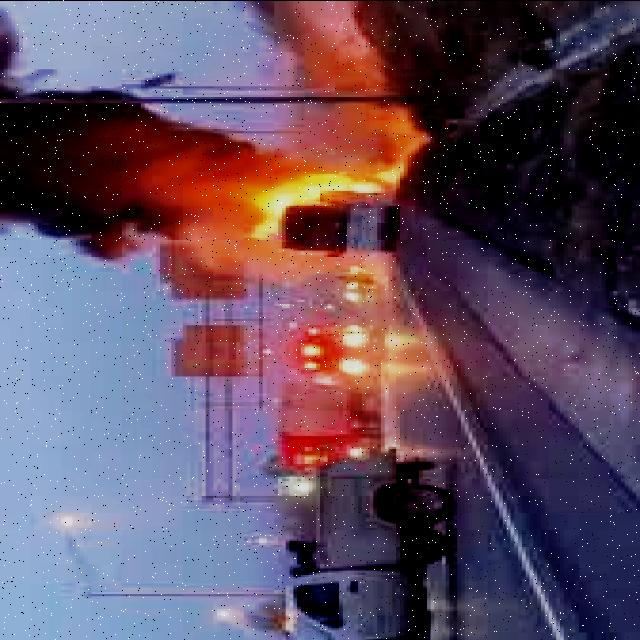api: (219, 142, 405, 253)
